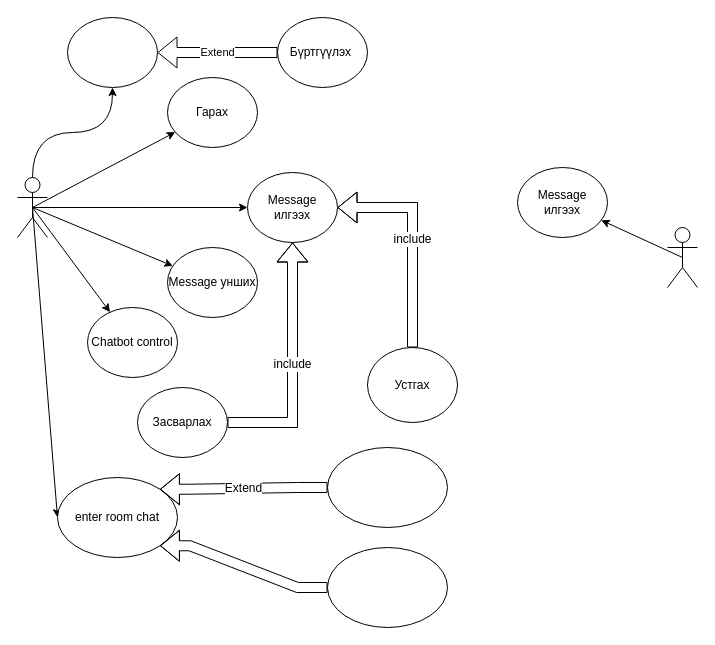
The diagram is 715 pixels wide and 645 high, and some of its shapes have lost their labels. Here are the shapes that lost their labels. From the top down, the box of each, then its label:
(66, 16, 158, 88): Нэвтрэх
(16, 176, 48, 238): Actor
(666, 226, 698, 288): Bot
(326, 446, 448, 528): leave room chat
(326, 546, 448, 628): add user room chat
